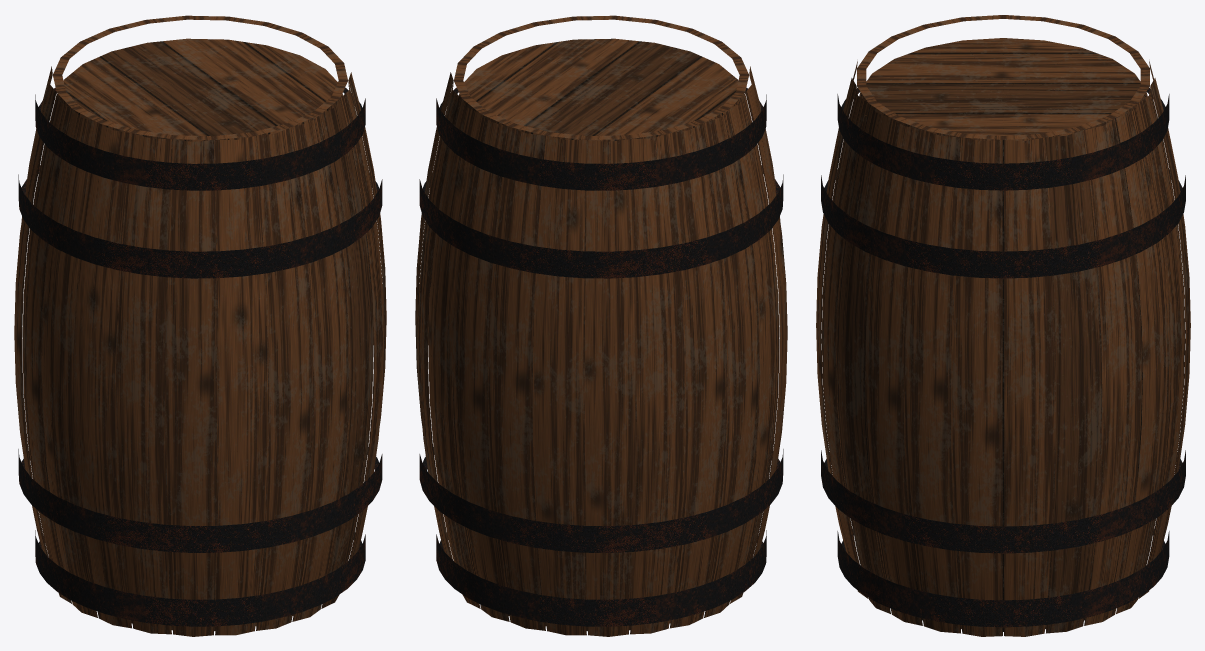
Rendered from barrel.glb.
3 views of the same model, side by side, from view 1: azimuth 30°, elevation 25°; view 2: azimuth 150°, elevation 25°; view 3: azimuth 270°, elevation 25° (orthographic).
Parts seen in each view (by area): view 1: barrel; view 2: barrel; view 3: barrel.
Boxes of the visible parts, x1=… form: barrel: x1=14, y1=15, x2=386, y2=636; barrel: x1=415, y1=15, x2=787, y2=636; barrel: x1=816, y1=15, x2=1190, y2=636.
Size of the model in its own units: 0.6236 by 0.92 by 0.63.
Materials: 2 (2 with a texture image).
